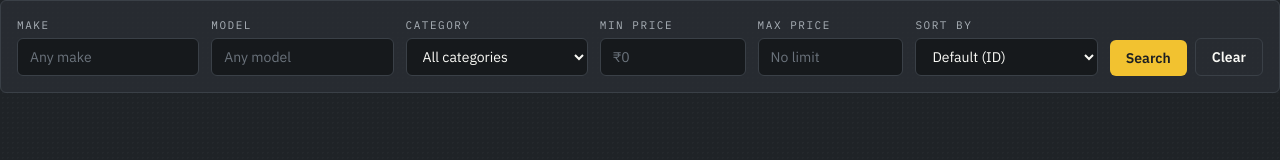
Test: SearchFilters › blocks a search where min price is above max price
Type "9000" into the number field labelled "Min price".
click(673, 56); type("9000")  # box [600, 38, 746, 76]
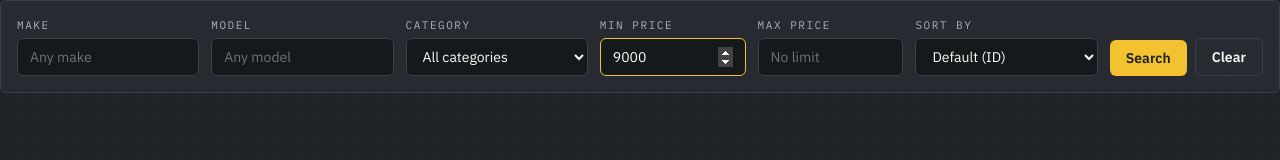
Type "100" into the number field labelled "Max price".
click(830, 56); type("100")  # box [758, 38, 903, 76]
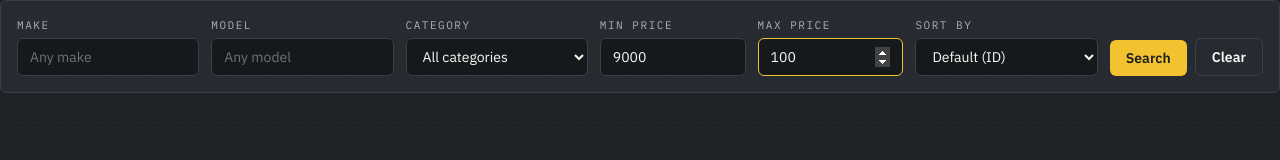
Click the button "Search".
click(1148, 58)  # box [1110, 40, 1187, 76]
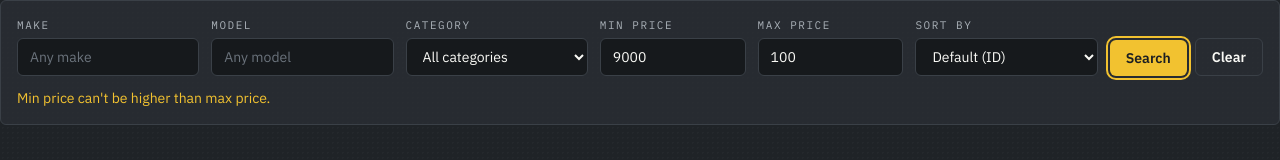
expect the message shows "Min price can't be higher than max price": met, box [17, 88, 270, 106]
